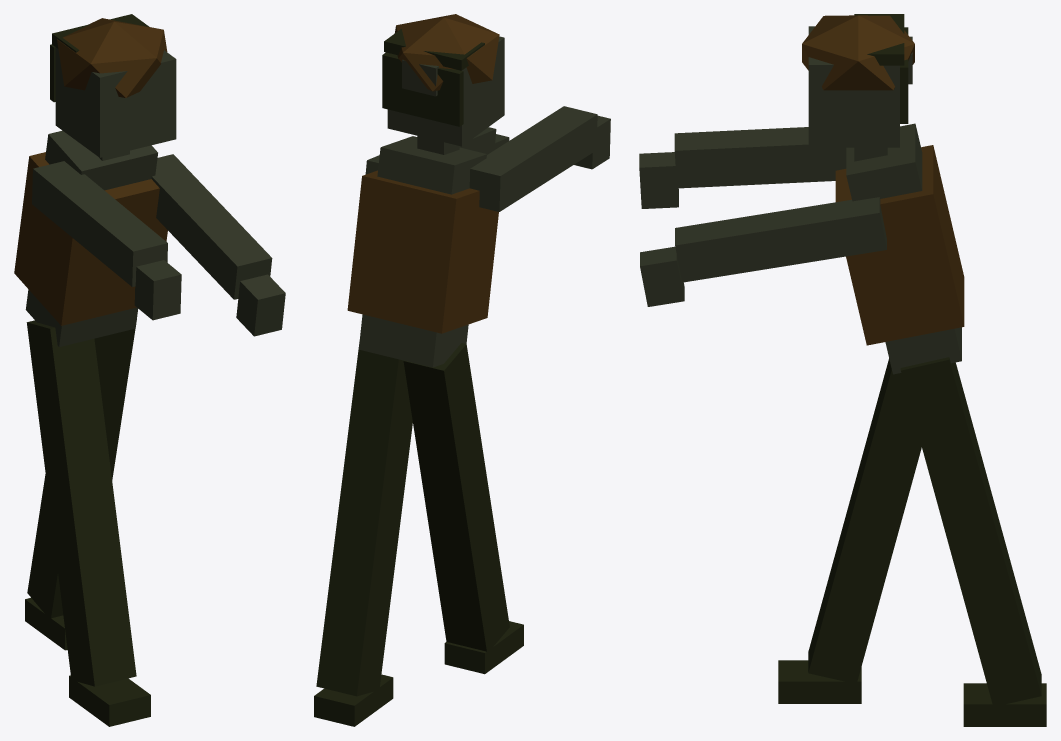
The model's file is SM_ZombiFino_v10_Casco_LOD1.fbx.
The picture shows the model from 3 angles, left to right: view 1: azimuth 30°, elevation 25°; view 2: azimuth 150°, elevation 25°; view 3: azimuth 270°, elevation 25°; orthographic projection. The views are drawn at different scales.
Parts seen in each view (by area): view 1: SM_zombi_fino_v10_LOD1; view 2: SM_zombi_fino_v10_LOD1; view 3: SM_zombi_fino_v10_LOD1.
Part boxes in pixels (box(x1,y1,x2,y2)): SM_zombi_fino_v10_LOD1: box(14, 14, 285, 726); SM_zombi_fino_v10_LOD1: box(314, 14, 610, 726); SM_zombi_fino_v10_LOD1: box(639, 14, 1046, 726).
Bounding box in the file's own units: 0.4 × 1.83 × 0.9796.
